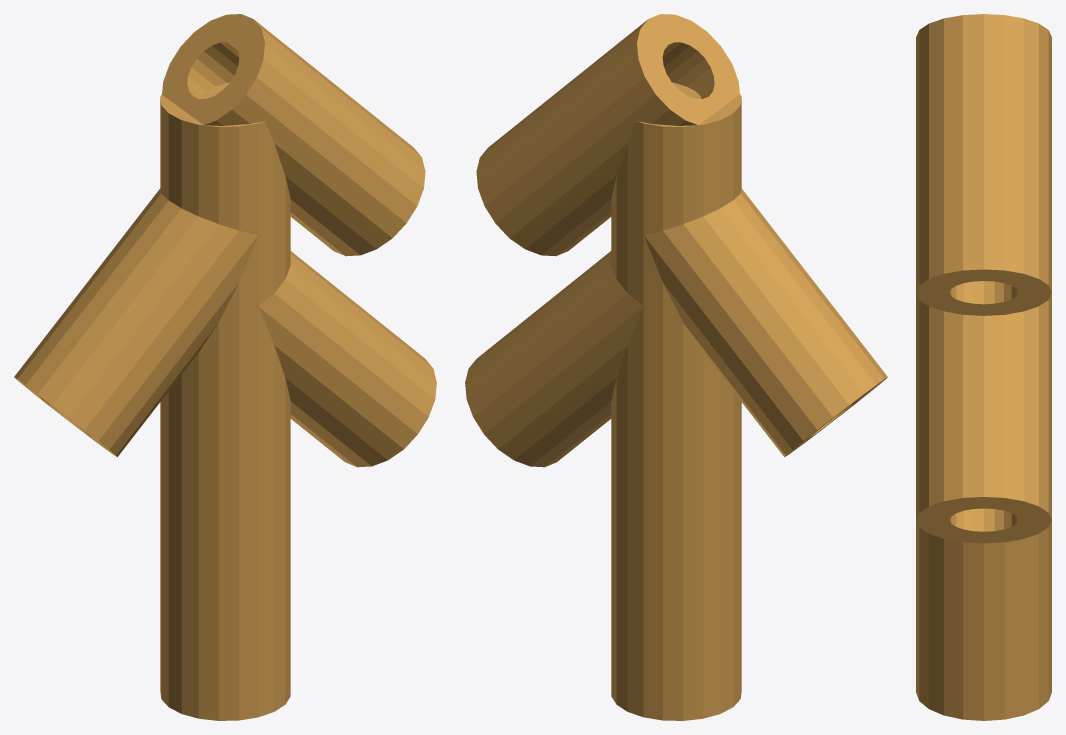
Rendered from Exquisite Elzing-Jaagub.glb.
3 renders of one model, left to right at view 1: azimuth 30°, elevation 25°; view 2: azimuth 150°, elevation 25°; view 3: azimuth 270°, elevation 25°, orthographic. The views are drawn at different scales.
Visible parts, largest first — view 1: Mesh_Mesh_head_geo.001_lambert2SG.001; view 2: Mesh_Mesh_head_geo.001_lambert2SG.001; view 3: Mesh_Mesh_head_geo.001_lambert2SG.001.
Part boxes in pixels (x1=…): Mesh_Mesh_head_geo.001_lambert2SG.001: x1=14, y1=14, x2=436, y2=720; Mesh_Mesh_head_geo.001_lambert2SG.001: x1=465, y1=14, x2=887, y2=720; Mesh_Mesh_head_geo.001_lambert2SG.001: x1=916, y1=14, x2=1051, y2=720.
Size of the model in its own units: 3.52 by 5.62 by 1.
